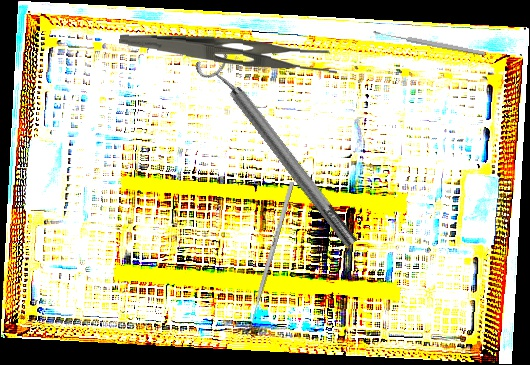Dressing Forceps: (118, 33, 339, 77)
Fixation Ring: (192, 43, 366, 257)
Pusher: (246, 181, 295, 334)
Surgical Spoon: (372, 29, 487, 57)
